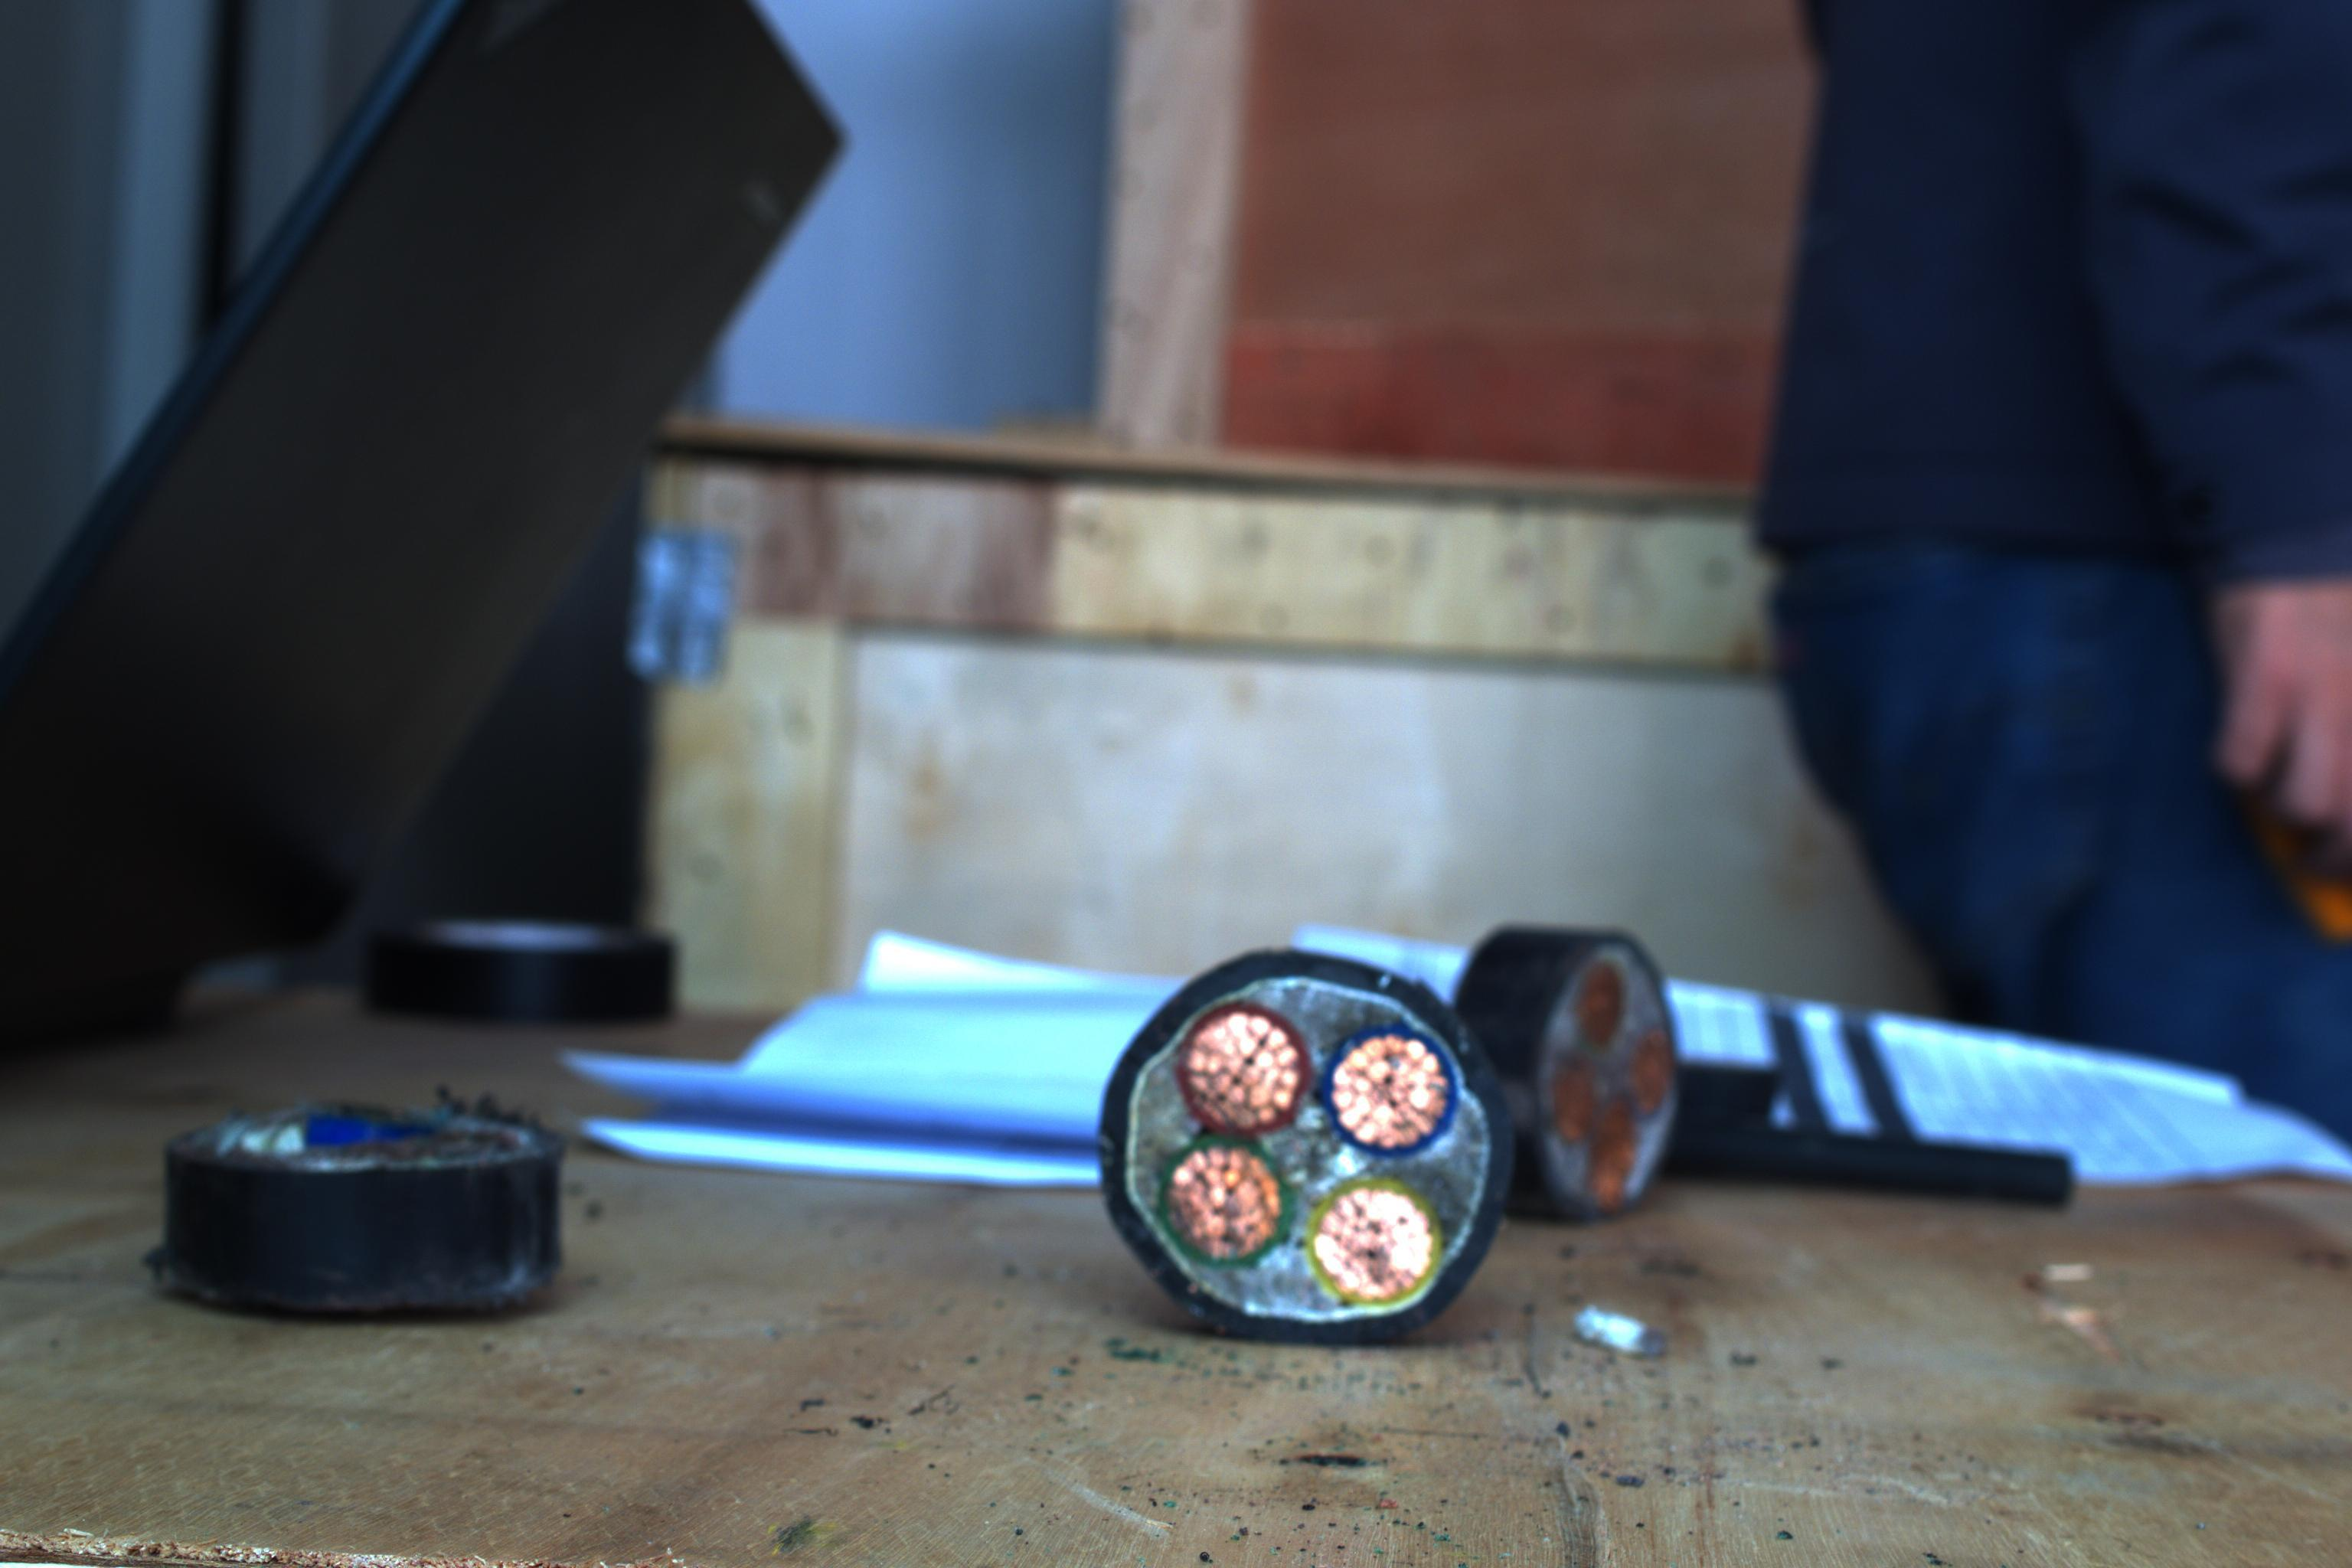YJV_0.6_1kV_4x120: (1066, 948, 1526, 1340)
